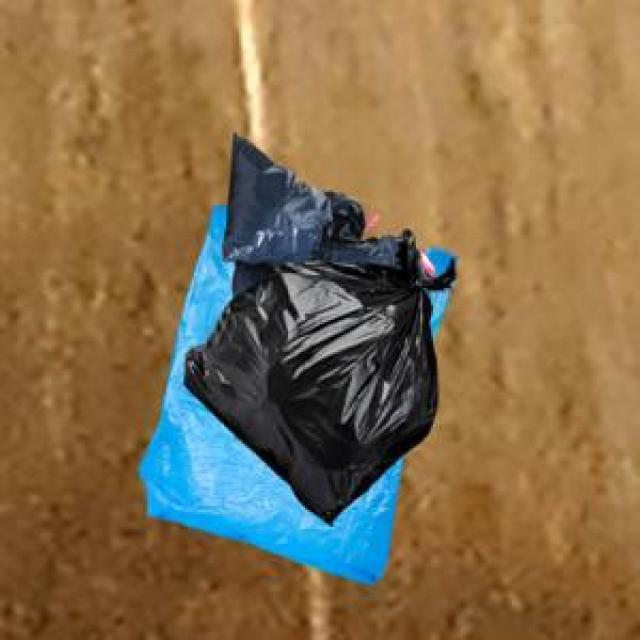miscellaneous trash: (179, 226, 452, 521), (218, 130, 431, 292)
